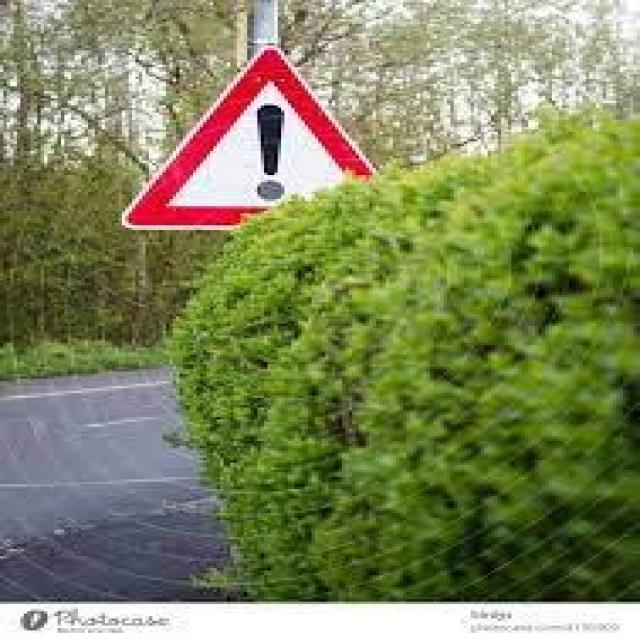warning: (104, 45, 404, 236)
